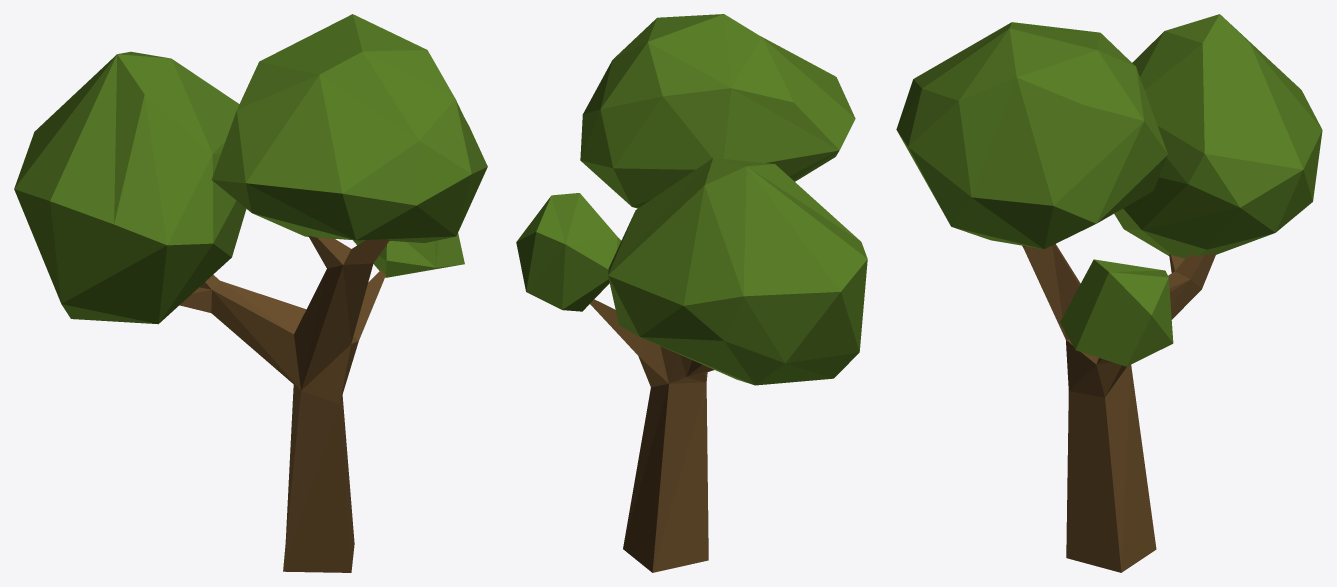
Rendered from temp-decid.average.darkgreen-op0.6.gltf.
3 views of the same model, side by side, from view 1: azimuth 30°, elevation 25°; view 2: azimuth 150°, elevation 25°; view 3: azimuth 270°, elevation 25° (orthographic). The views are drawn at different scales.
Visible parts, largest first — view 1: Tree1_3; view 2: Tree1_3; view 3: Tree1_3.
Boxes of the visible parts, bbox=[...] form: Tree1_3: bbox=[14, 14, 487, 572]; Tree1_3: bbox=[516, 14, 867, 572]; Tree1_3: bbox=[896, 14, 1322, 572].
Bounding box in the file's own units: 3.29 × 4.43 × 3.29.
Materials: 1 (1 with a texture image).
